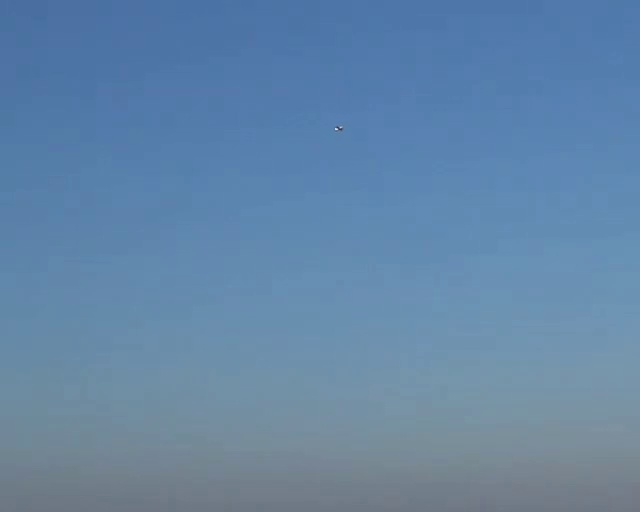AIRPLANE: (308, 99, 326, 114)
